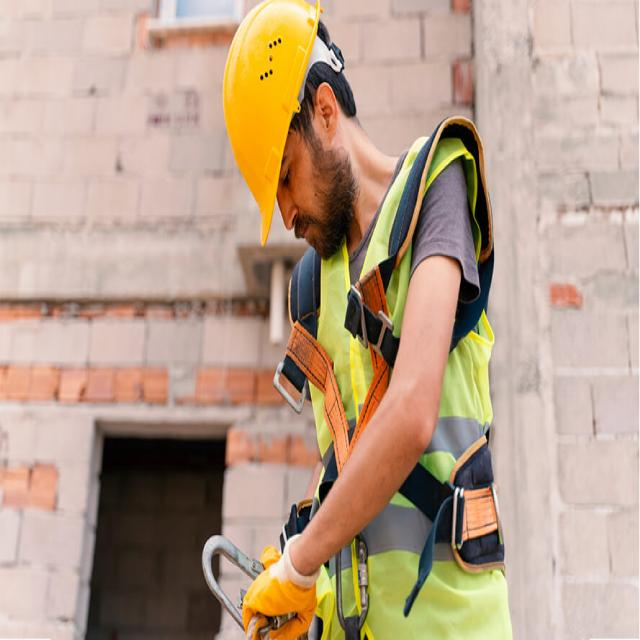Gloves: (236, 538, 317, 638)
Hard Hat: (218, 4, 322, 247)
Reflective Vest: (284, 122, 520, 640)
